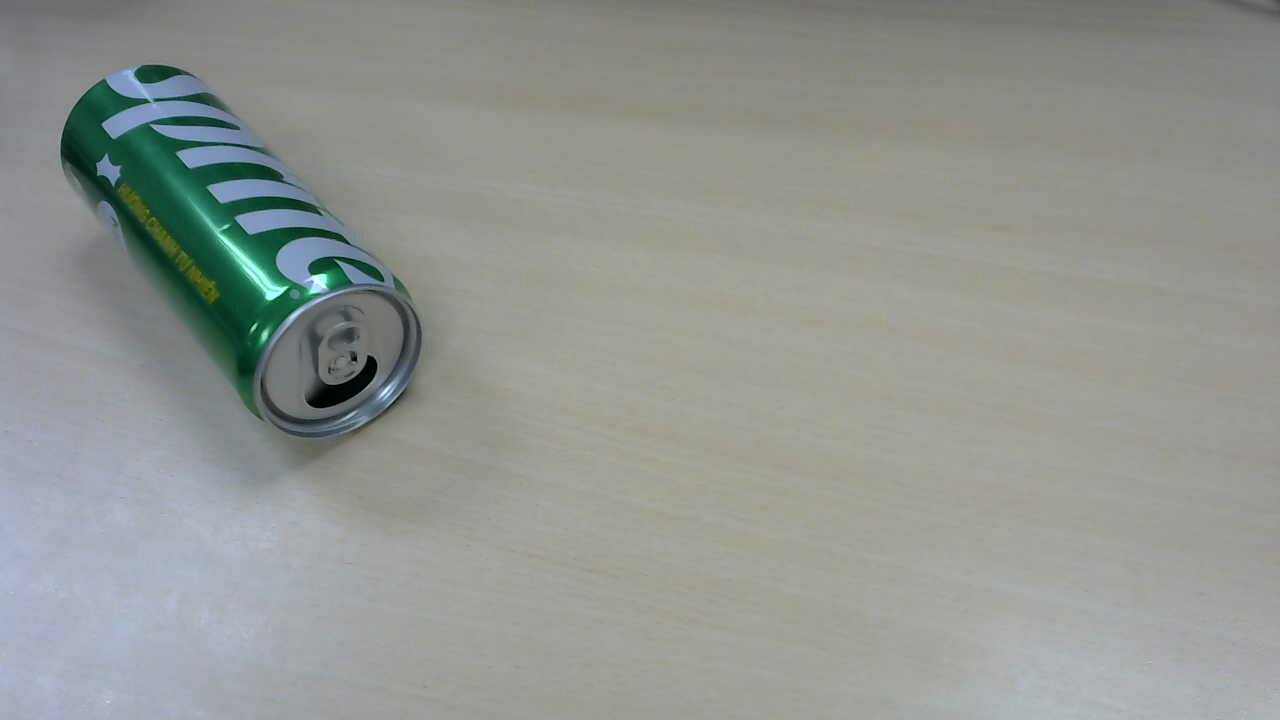Sprite: (66, 67, 425, 450)
